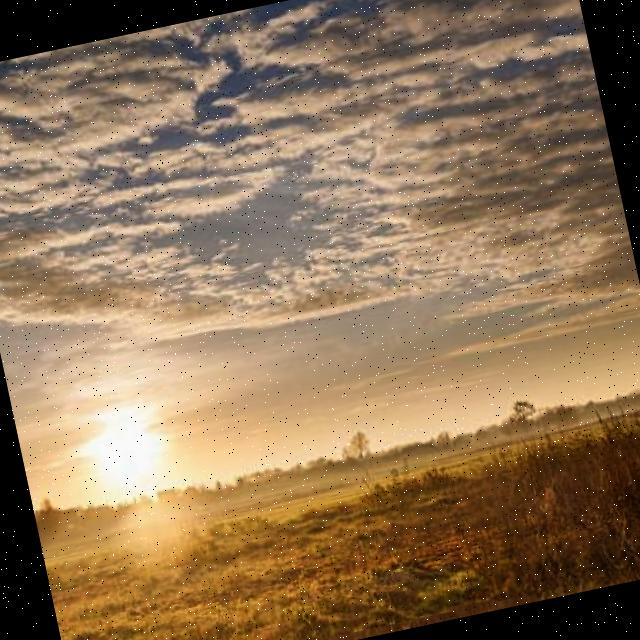Cc: (1, 1, 640, 449)
